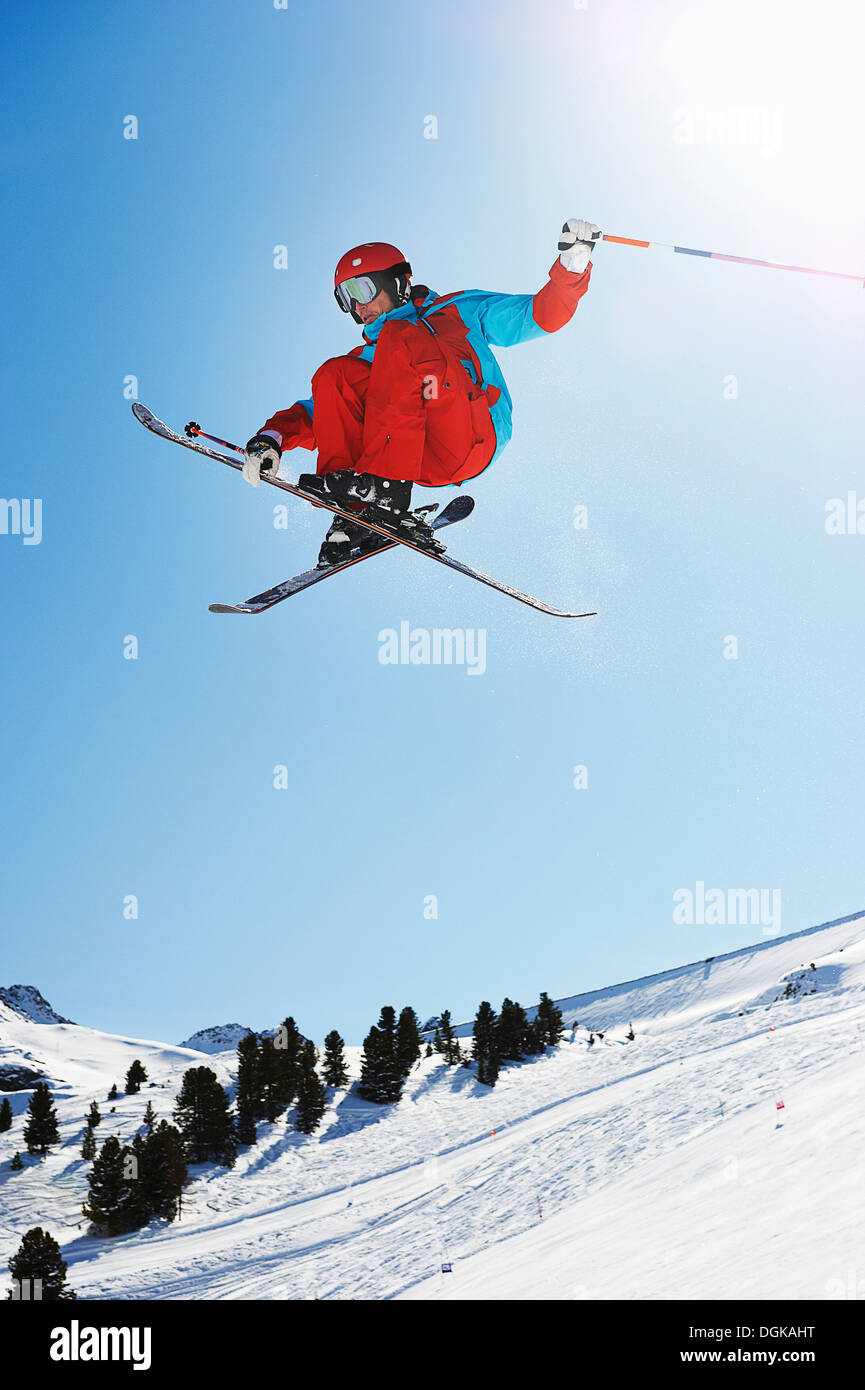skier: (56, 93, 865, 641)
